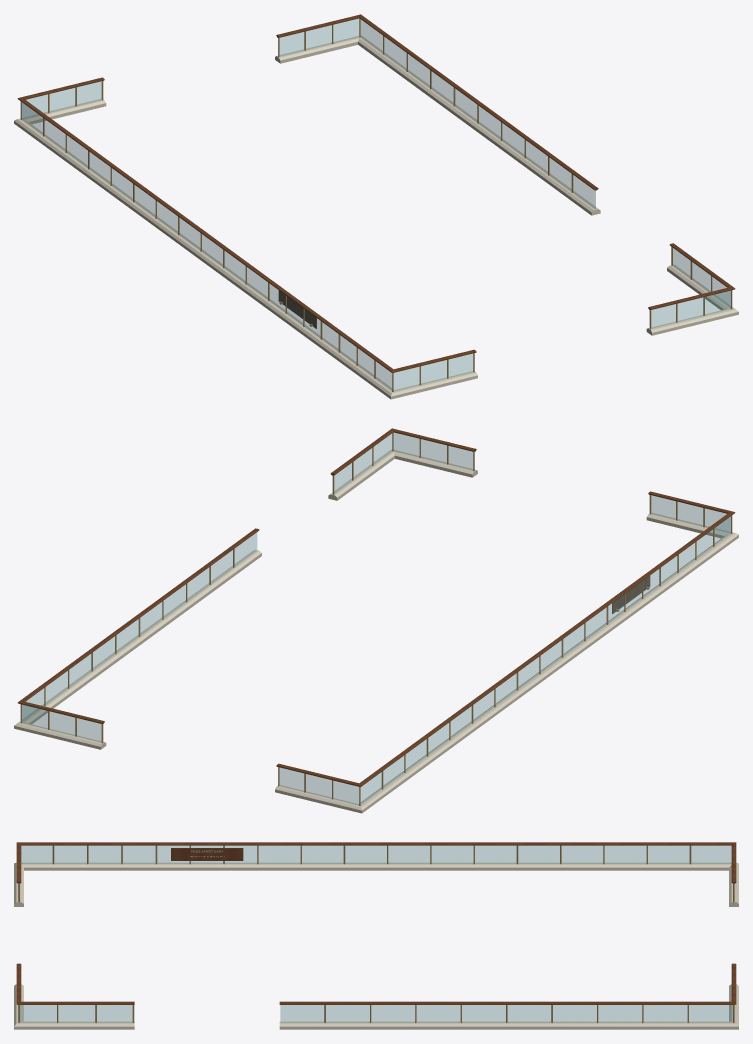
Rendered from AST-ATR-001_botanical_nursery_open001.glb.
3 renders of one model, top to bottom at view 1: azimuth 30°, elevation 25°; view 2: azimuth 150°, elevation 25°; view 3: azimuth 270°, elevation 25°, orthographic. The views are drawn at different scales.
Parts seen in each view (by area): view 1: BOTCOURT_port_EDGE_1_GuardPlinth, BOTCOURT_starboard_EDGE_3_GuardPlinth, BOTCOURT_port_EDGE_1_Handrail, BOTCOURT_starboard_EDGE_3_Handrail, BOTCOURT_port_EDGE_3_GuardPlinth, BOTCOURT_starboard_EDGE_0_GuardPlinth, BOTCOURT_port_EDGE_4_GuardPlinth, BOTCOURT_starboard_EDGE_4_GuardPlinth, BOTCOURT_port_EDGE_0_GuardPlinth, BOTCOURT_starboard_EDGE_1_GuardPlinth, BOTCOURT_port_PORTAL_CLOSURE_GuardPlinth; view 2: BOTCOURT_port_EDGE_1_GuardPlinth, BOTCOURT_starboard_EDGE_3_GuardPlinth, BOTCOURT_port_EDGE_1_Handrail, BOTCOURT_starboard_EDGE_3_Handrail, BOTCOURT_port_EDGE_3_GuardPlinth, BOTCOURT_starboard_EDGE_4_GuardPlinth, BOTCOURT_port_EDGE_0_GuardPlinth, BOTCOURT_starboard_EDGE_1_GuardPlinth, BOTCOURT_starboard_EDGE_0_GuardPlinth, BOTCOURT_port_EDGE_4_GuardPlinth, BOTCOURT_port_PORTAL_CLOSURE_GuardPlinth; view 3: BOTCOURT_port_EDGE_1_GuardPlinth, BOTCOURT_starboard_EDGE_3_GuardPlinth, BOTCOURT_port_EDGE_1_Handrail, BOTCOURT_starboard_EDGE_3_Handrail, BOTCOURT_port_EDGE_3_GuardPlinth, BOTCOURT_starboard_EDGE_1_GuardPlinth, BOTCOURT_port_PORTAL_CLOSURE_Plaque, BOTCOURT_port_PORTAL_CLOSURE_GuardPlinth, BOTCOURT_starboard_EDGE_3_Glass_0, BOTCOURT_starboard_EDGE_3_Glass_1, BOTCOURT_starboard_EDGE_3_Glass_2, BOTCOURT_starboard_EDGE_3_Glass_3 (+33 smaller).
Part boxes in pixels (left/top/right/bottom): BOTCOURT_port_EDGE_1_GuardPlinth: left=14, top=119, right=271, bottom=306; BOTCOURT_starboard_EDGE_3_GuardPlinth: left=358, top=35, right=600, bottom=215; BOTCOURT_port_EDGE_1_Handrail: left=17, top=98, right=269, bottom=280; BOTCOURT_starboard_EDGE_3_Handrail: left=359, top=14, right=598, bottom=190; BOTCOURT_port_EDGE_3_GuardPlinth: left=317, top=339, right=392, bottom=399; BOTCOURT_starboard_EDGE_0_GuardPlinth: left=646, top=308, right=738, bottom=335; BOTCOURT_port_EDGE_4_GuardPlinth: left=391, top=371, right=477, bottom=399; BOTCOURT_starboard_EDGE_4_GuardPlinth: left=275, top=36, right=359, bottom=63; BOTCOURT_port_EDGE_0_GuardPlinth: left=17, top=99, right=106, bottom=124; BOTCOURT_starboard_EDGE_1_GuardPlinth: left=667, top=264, right=735, bottom=310; BOTCOURT_port_PORTAL_CLOSURE_GuardPlinth: left=264, top=300, right=323, bottom=344; BOTCOURT_port_EDGE_1_GuardPlinth: left=360, top=624, right=611, bottom=813; BOTCOURT_starboard_EDGE_3_GuardPlinth: left=17, top=550, right=261, bottom=724; BOTCOURT_port_EDGE_1_Handrail: left=359, top=603, right=609, bottom=786; BOTCOURT_starboard_EDGE_3_Handrail: left=19, top=528, right=259, bottom=701; BOTCOURT_port_EDGE_3_GuardPlinth: left=657, top=533, right=738, bottom=591; BOTCOURT_starboard_EDGE_4_GuardPlinth: left=14, top=722, right=106, bottom=749; BOTCOURT_port_EDGE_0_GuardPlinth: left=275, top=785, right=361, bottom=813; BOTCOURT_starboard_EDGE_1_GuardPlinth: left=328, top=449, right=394, bottom=500; BOTCOURT_starboard_EDGE_0_GuardPlinth: left=393, top=450, right=477, bottom=477; BOTCOURT_port_EDGE_4_GuardPlinth: left=646, top=513, right=735, bottom=538; BOTCOURT_port_PORTAL_CLOSURE_GuardPlinth: left=604, top=585, right=664, bottom=630; BOTCOURT_port_EDGE_1_GuardPlinth: left=258, top=862, right=731, bottom=870; BOTCOURT_starboard_EDGE_3_GuardPlinth: left=279, top=1021, right=738, bottom=1029; BOTCOURT_port_EDGE_1_Handrail: left=258, top=842, right=735, bottom=845; BOTCOURT_starboard_EDGE_3_Handrail: left=279, top=1001, right=736, bottom=1004; BOTCOURT_port_EDGE_3_GuardPlinth: left=21, top=862, right=156, bottom=870; BOTCOURT_starboard_EDGE_1_GuardPlinth: left=14, top=1021, right=134, bottom=1029; BOTCOURT_port_PORTAL_CLOSURE_Plaque: left=171, top=848, right=243, bottom=860; BOTCOURT_port_PORTAL_CLOSURE_GuardPlinth: left=156, top=862, right=257, bottom=870; BOTCOURT_starboard_EDGE_3_Glass_0: left=280, top=1005, right=323, bottom=1022; BOTCOURT_starboard_EDGE_3_Glass_1: left=326, top=1005, right=369, bottom=1022; BOTCOURT_starboard_EDGE_3_Glass_2: left=371, top=1005, right=414, bottom=1022; BOTCOURT_starboard_EDGE_3_Glass_3: left=417, top=1005, right=460, bottom=1022.
Bounding box in the file's own units: 15.98 × 1.15 × 29.98.
4 materials, 3 textured.
